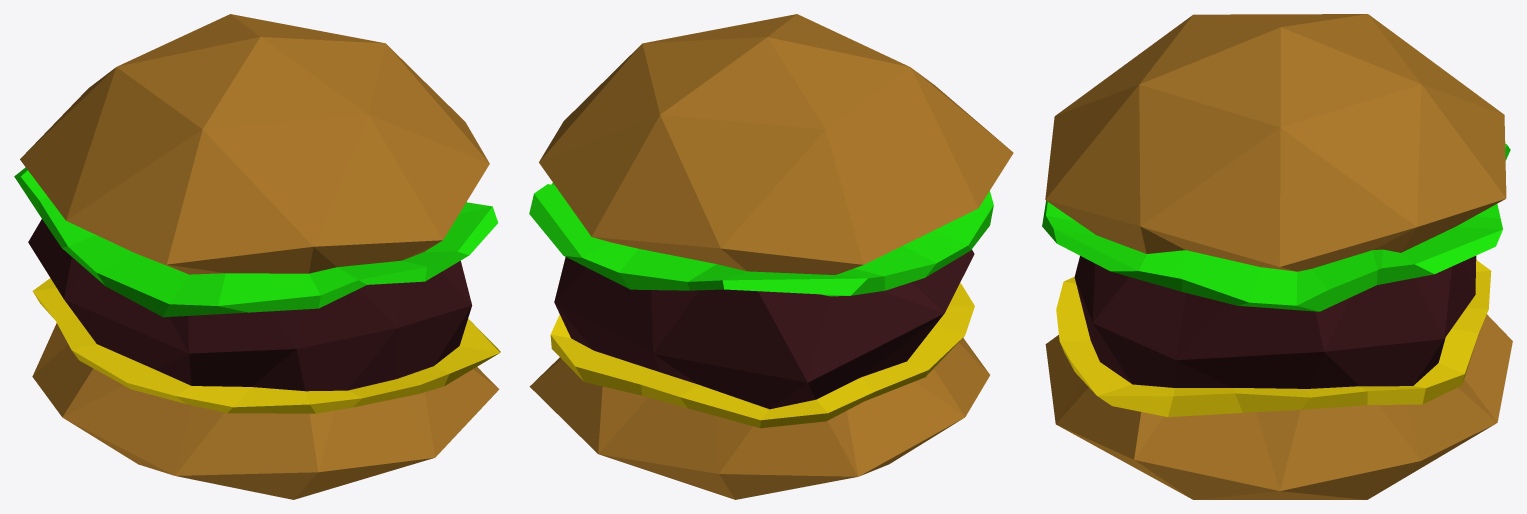
File: burger.fbx
The picture shows the model from 3 angles, left to right: view 1: azimuth 30°, elevation 25°; view 2: azimuth 150°, elevation 25°; view 3: azimuth 270°, elevation 25°; orthographic projection. The views are drawn at different scales.
Parts seen in each view (by area): view 1: Icosphere.001; view 2: Icosphere.001; view 3: Icosphere.001.
Boxes of the visible parts, x1,y1,x2,y2 form: Icosphere.001: (14, 14, 500, 499); Icosphere.001: (529, 14, 1013, 499); Icosphere.001: (1042, 14, 1512, 499).
Bounding box in the file's own units: 292 × 282 × 286.
